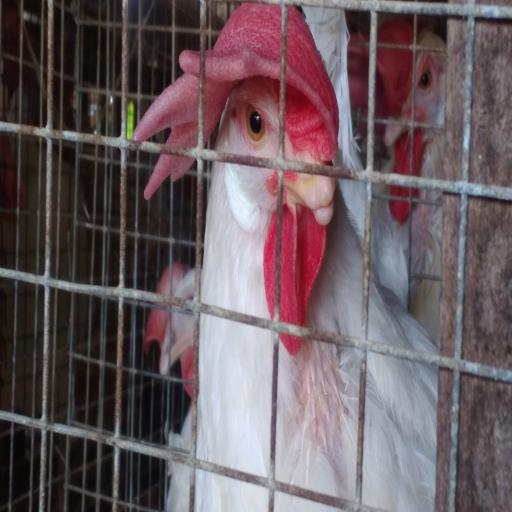healthy: (197, 12, 354, 240)
